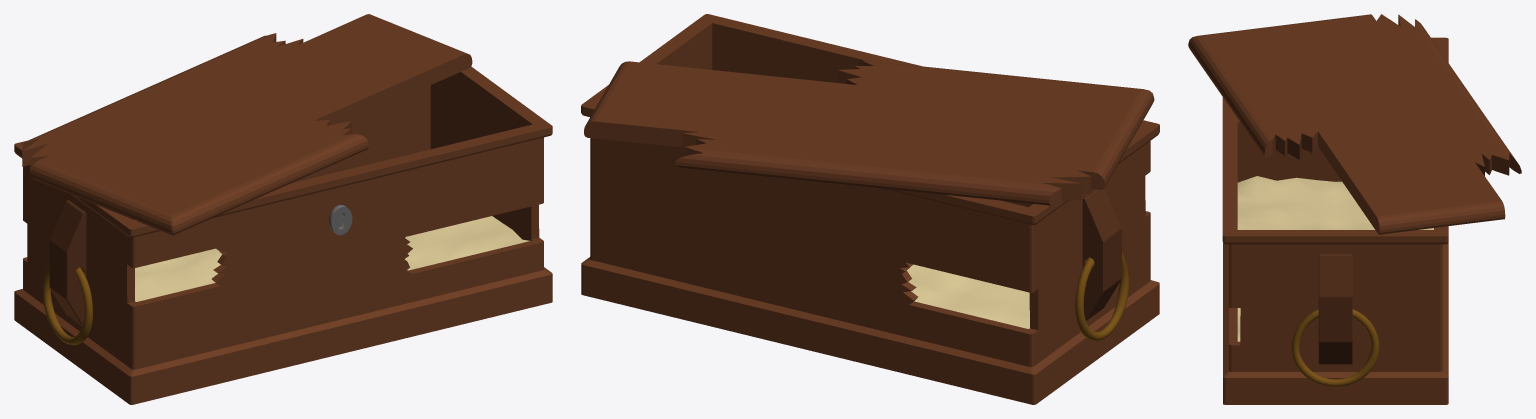
Rendered from ChestAndKnife.fbx.
3 renders of one model, left to right at view 1: azimuth 30°, elevation 25°; view 2: azimuth 150°, elevation 25°; view 3: azimuth 270°, elevation 25°, orthographic. The views are drawn at different scales.
Visible parts, largest first — view 1: Chest; view 2: Chest; view 3: Chest.
Part boxes in pixels (x1,y1,x2,y2): Chest: [14, 14, 552, 404]; Chest: [581, 14, 1159, 404]; Chest: [1188, 14, 1521, 404].
Bounding box in the file's own units: 119 × 47.35 × 77.61.
